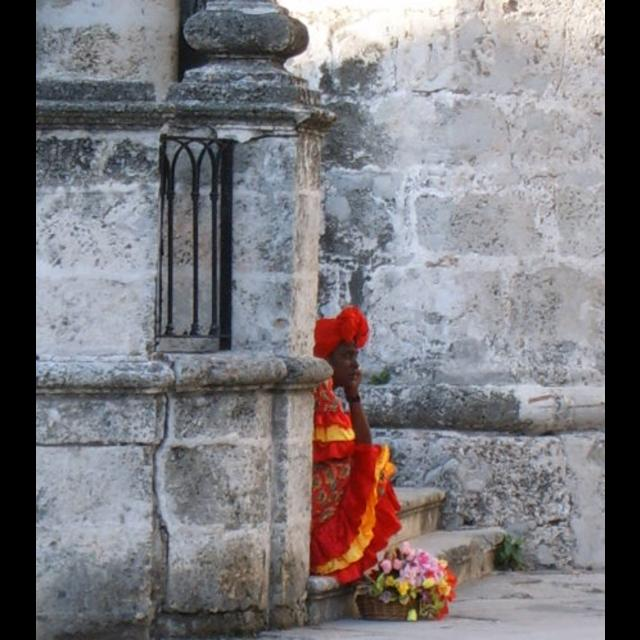Flower: (382, 540, 453, 620), (379, 558, 391, 574), (381, 564, 389, 574)
